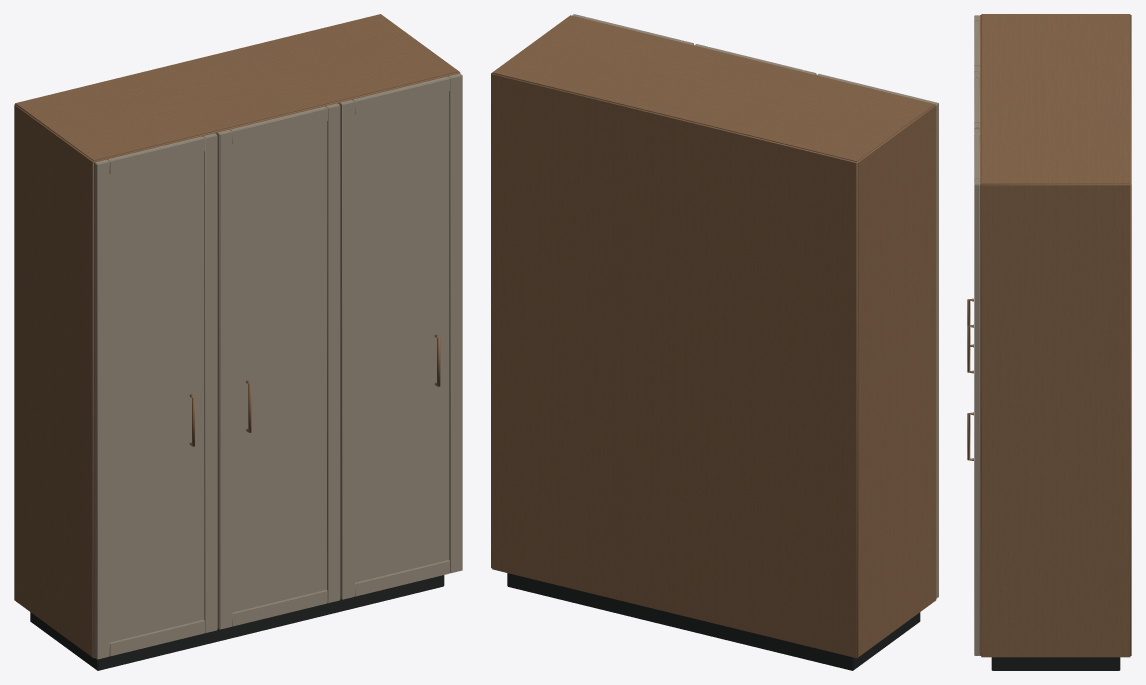
Rendered from traditional.wardrobe.gltf.
3 views of the same model, side by side, from view 1: azimuth 30°, elevation 25°; view 2: azimuth 150°, elevation 25°; view 3: azimuth 270°, elevation 25° (orthographic). The views are drawn at different scales.
Parts seen in each view (by area): view 1: traditional.wardrobe.carcass; view 2: traditional.wardrobe.carcass; view 3: traditional.wardrobe.carcass.
Boxes of the visible parts, bbox=[...] form: traditional.wardrobe.carcass: bbox=[14, 14, 462, 670]; traditional.wardrobe.carcass: bbox=[491, 14, 938, 670]; traditional.wardrobe.carcass: bbox=[967, 14, 1131, 670].
Size of the model in its own units: 1.6 by 2.15 by 0.6507.
Materials: 3 (1 with a texture image).
